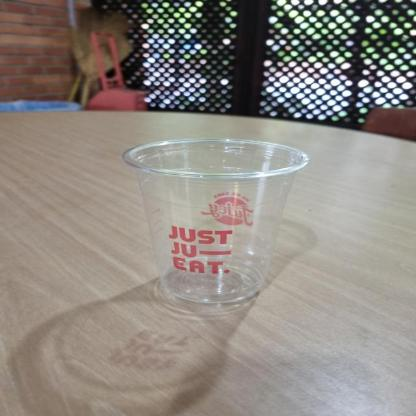Plastic Cup: (118, 133, 320, 309)
